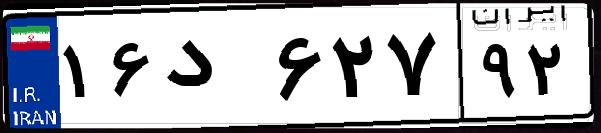1: (57, 26, 110, 100)
2: (330, 28, 385, 110), (525, 38, 570, 115)
6: (270, 28, 330, 110), (110, 28, 158, 98)
7: (385, 28, 445, 110)
9: (475, 38, 525, 113)
د: (158, 20, 270, 120)
